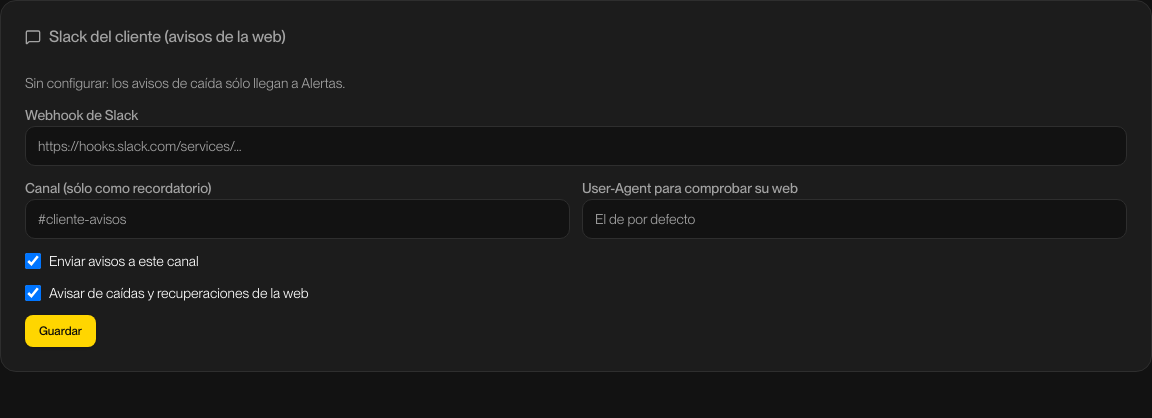
saves a new webhook and never shows it back
Check: the message shows "Sin configurar", box [25, 75, 345, 91]
Check: the button "Enviar prueba" is not shown
Step 1. Type "https://hooks.slack.com/services/T0/B1/abc123" into the field labelled "Webhook de Slack" → [576, 146], box [25, 126, 1127, 166]
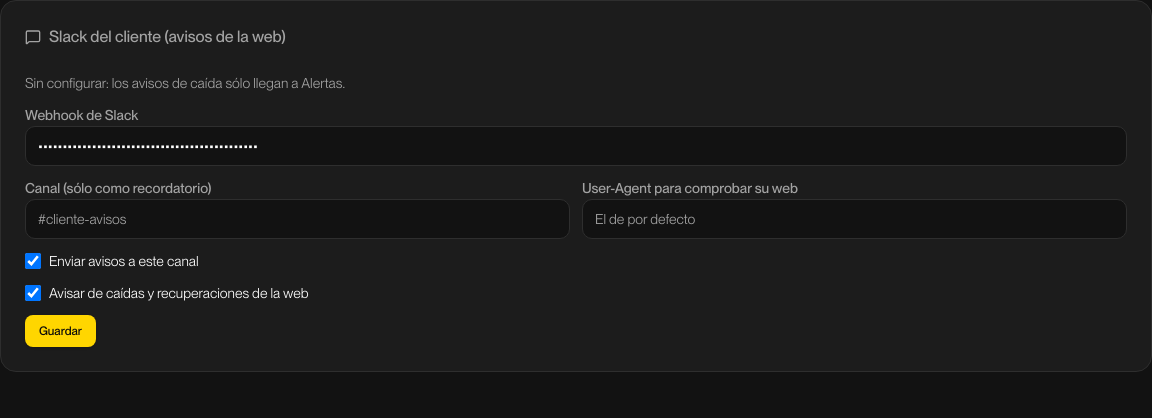
Step 2. Type "fit-avisos" into the field labelled "Canal (sólo como recordatorio)" → [298, 219], box [25, 199, 570, 239]
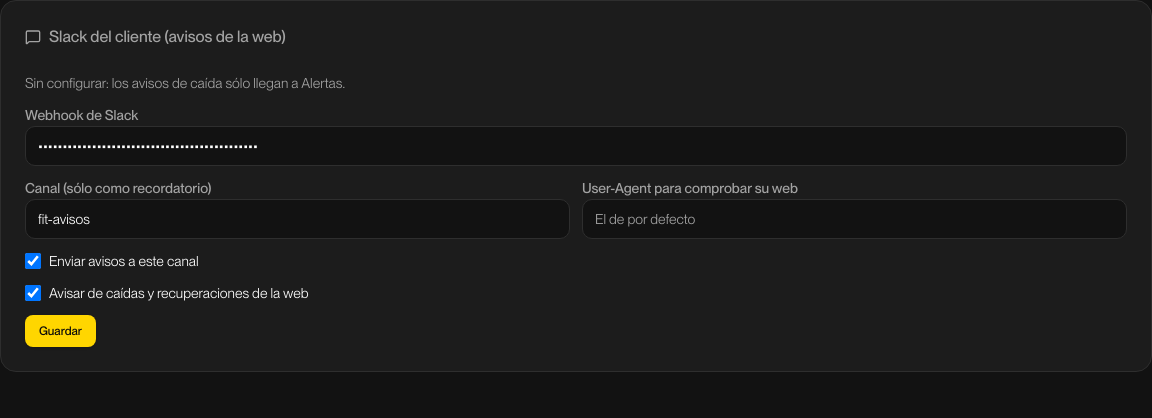
Step 3. Click the button "Guardar" → [60, 331], box [25, 315, 96, 347]
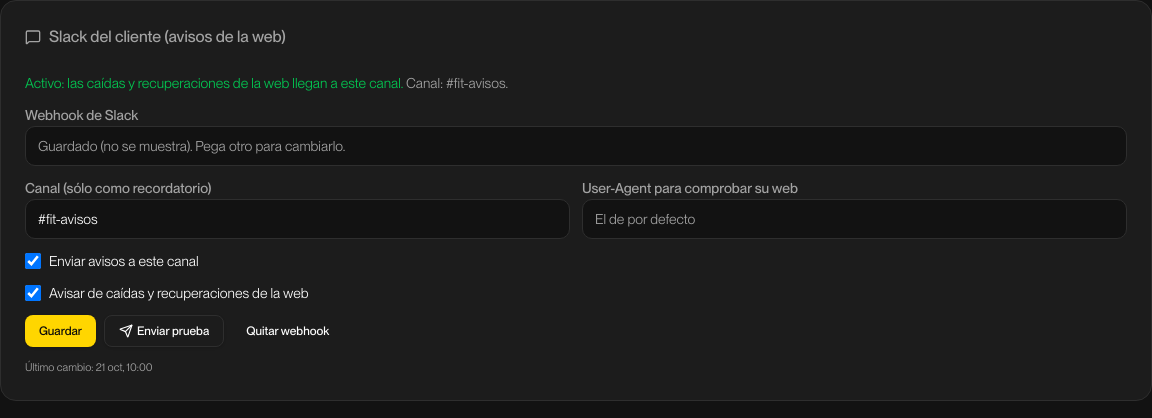
Check: the field showing "https://hooks.slack.com/services/T0/B1/abc123" is not shown
Check: the message shows "Activo: las caídas y recuperaciones", box [25, 75, 403, 91]
Check: the field labelled "Webhook de Slack" is empty, box [25, 126, 1127, 166]
